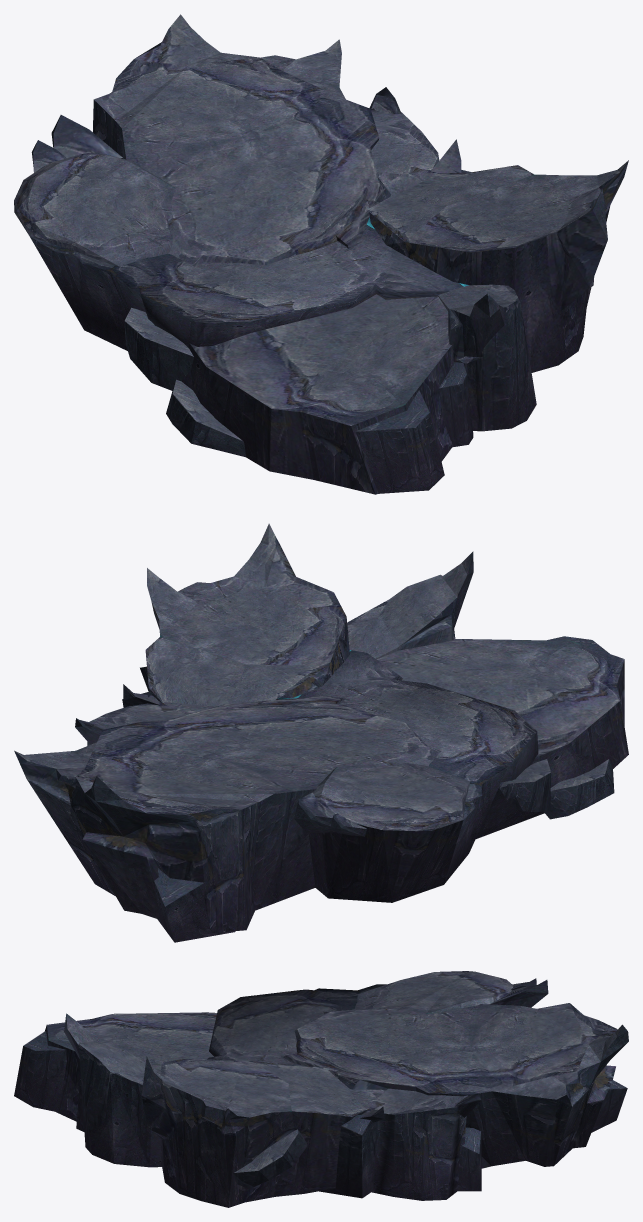
The model's file is yw_mojiediyu_shi06.FBX.
The picture shows the model from 3 angles, top to bottom: view 1: azimuth 30°, elevation 25°; view 2: azimuth 150°, elevation 25°; view 3: azimuth 270°, elevation 25°; orthographic projection. The views are drawn at different scales.
Visible parts, largest first — view 1: yw_mojiediyu_shi06; view 2: yw_mojiediyu_shi06; view 3: yw_mojiediyu_shi06.
Boxes of the visible parts, x1,y1,x2,y2 form: yw_mojiediyu_shi06: [14, 14, 628, 494]; yw_mojiediyu_shi06: [14, 523, 628, 942]; yw_mojiediyu_shi06: [14, 971, 628, 1207].
Size of the model in its own units: 373 by 145 by 539.
